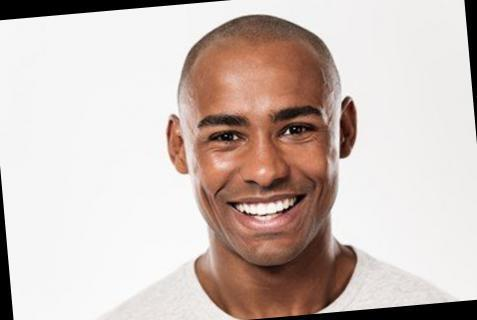Sober: (187, 54, 336, 262)
